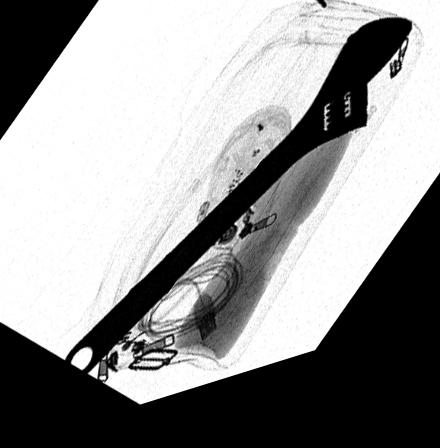Wrench: (62, 39, 415, 378)
